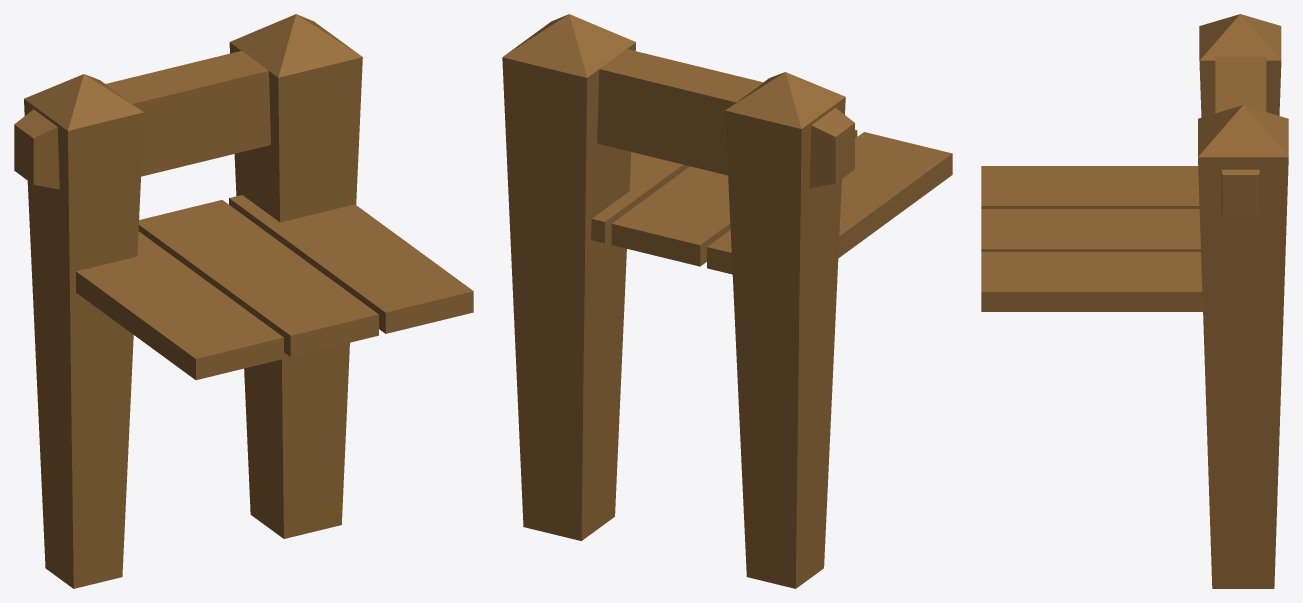
Rendered from wood_deck_01_edge.glb.
3 views of the same model, side by side, from view 1: azimuth 30°, elevation 25°; view 2: azimuth 150°, elevation 25°; view 3: azimuth 270°, elevation 25° (orthographic). The views are drawn at different scales.
Visible parts, largest first — view 1: rural_fence_01_plank.014; view 2: rural_fence_01_plank.014; view 3: rural_fence_01_plank.014.
Part boxes in pixels (x1,y1,x2,y2): rural_fence_01_plank.014: (14,14,473,588); rural_fence_01_plank.014: (502,14,952,588); rural_fence_01_plank.014: (981,14,1288,588).
Size of the model in its own units: 2.37 by 3.57 by 2.11.
